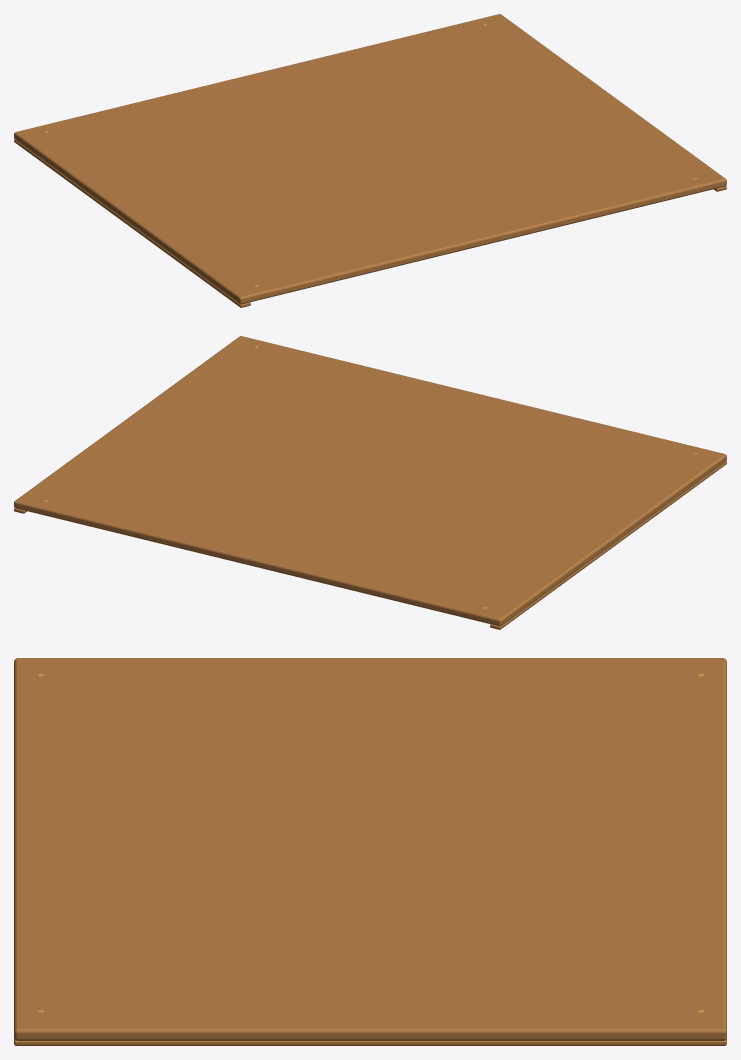
Rendered from chair-down-stable-light.glb.
3 views of the same model, one above another, from view 1: azimuth 30°, elevation 25°; view 2: azimuth 150°, elevation 25°; view 3: azimuth 270°, elevation 25° (orthographic). The views are drawn at different scales.
Parts seen in each view (by area): view 1: wood; view 2: wood; view 3: wood.
Part boxes in pixels (left/top/right/bottom): wood: left=14, top=14, right=726, bottom=307; wood: left=14, top=336, right=726, bottom=629; wood: left=14, top=658, right=726, bottom=1045.
Size of the model in its own units: 10 by 0.221 by 8.07.
